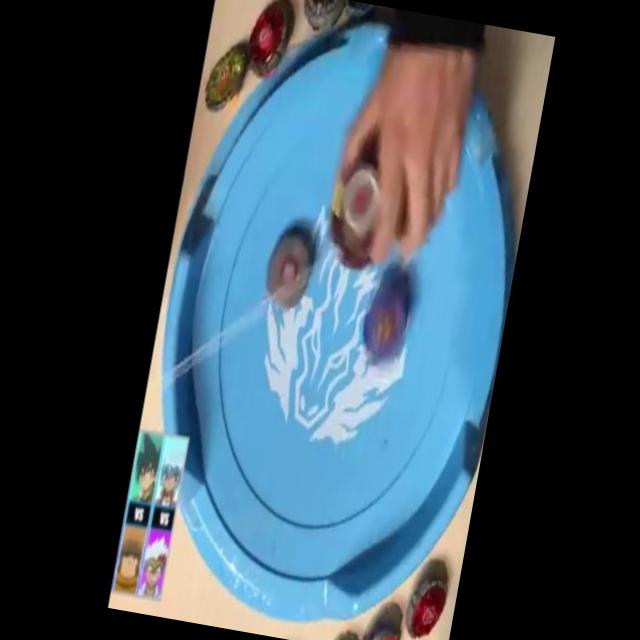Beyblade: (261, 230, 314, 311), (358, 285, 410, 366), (243, 0, 295, 80), (202, 41, 250, 116), (401, 573, 449, 640)
